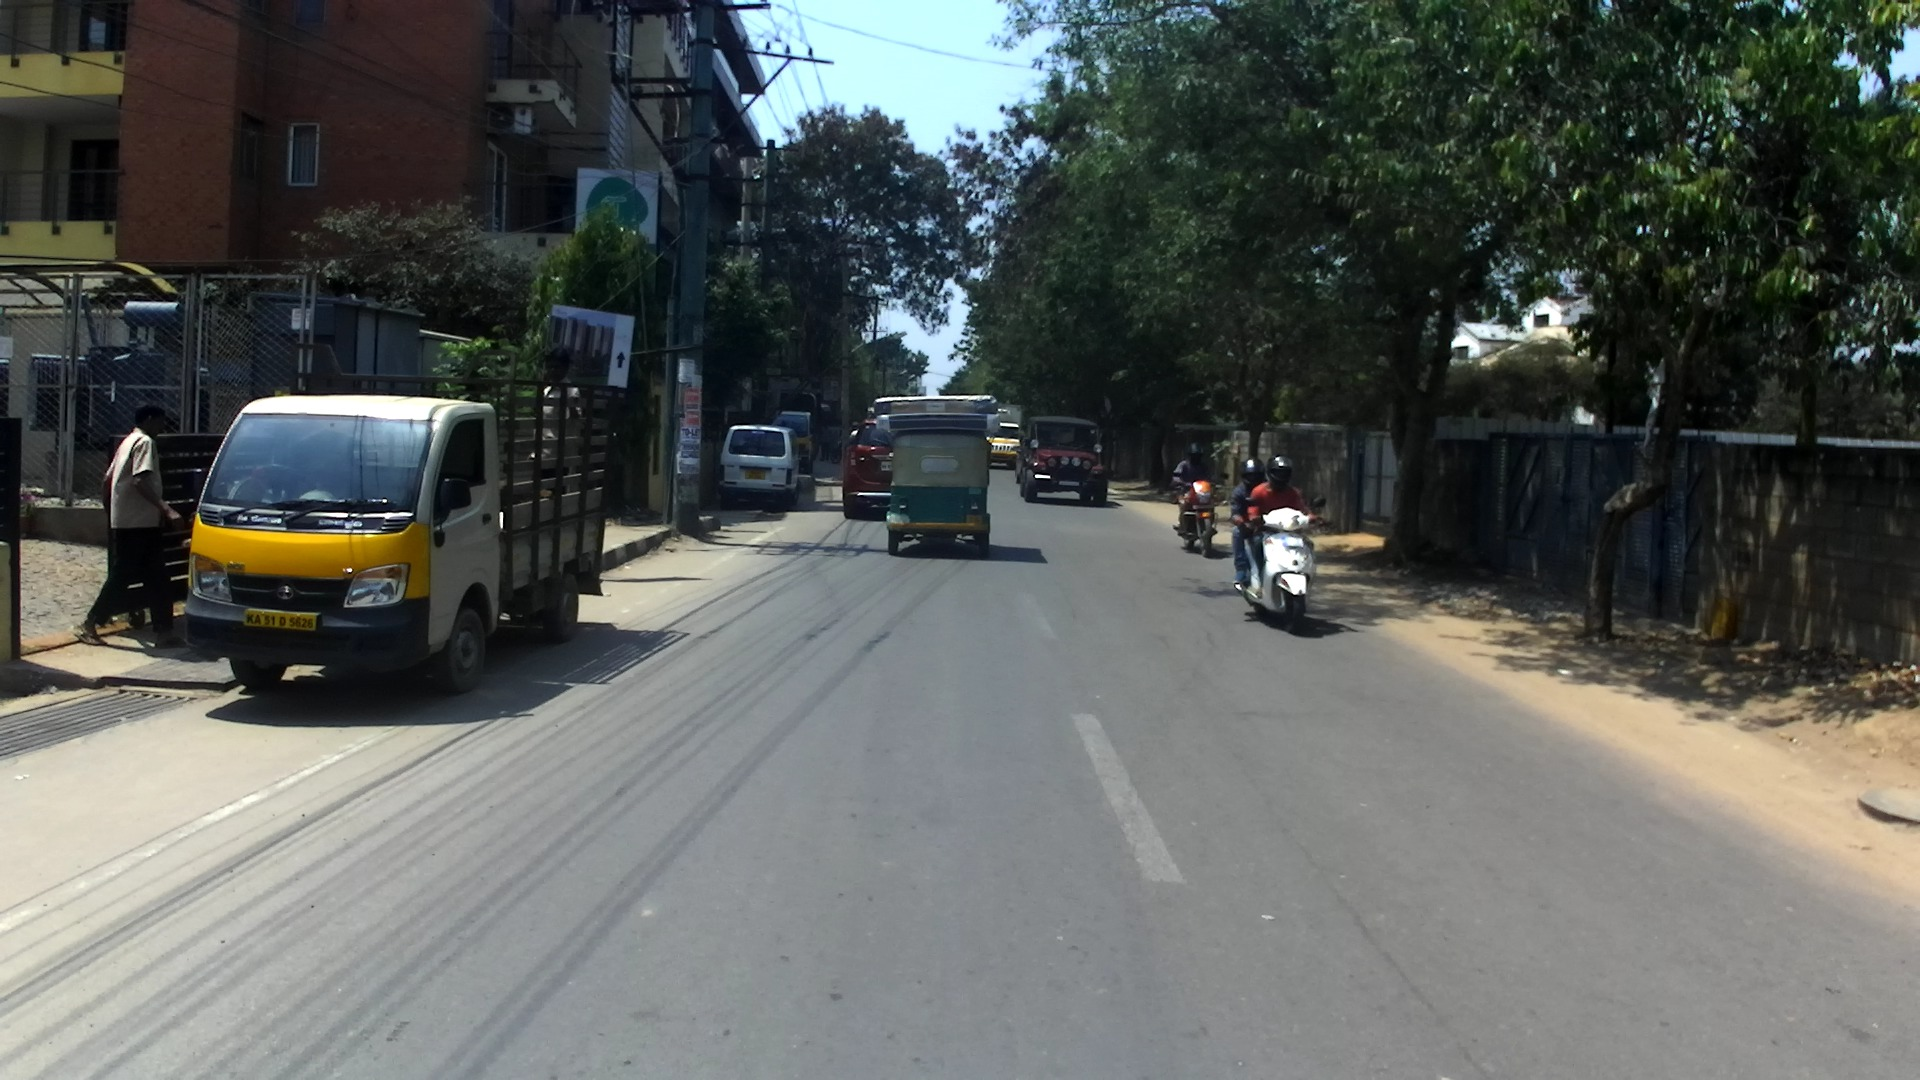autorickshaw: (886, 432, 994, 556)
car: (1018, 416, 1109, 507), (717, 424, 800, 512), (844, 405, 900, 519)
motorcycle: (1234, 494, 1326, 631), (1173, 471, 1227, 558), (831, 432, 855, 463)
person: (72, 396, 186, 652), (541, 348, 574, 384), (819, 419, 831, 461)
rider: (1246, 454, 1319, 596), (1231, 459, 1271, 584), (1171, 444, 1205, 532), (847, 422, 859, 438)
truck: (181, 341, 621, 695), (762, 391, 818, 474), (984, 402, 1028, 467)
